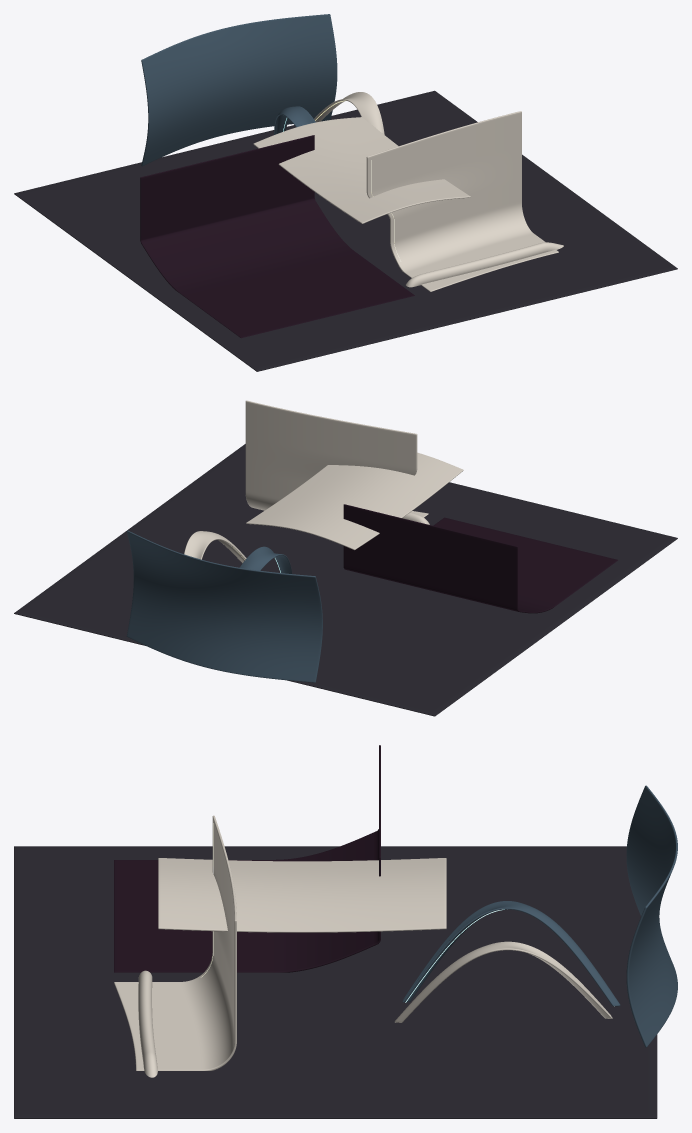
File: chamber.glb
3 renders of one model, top to bottom at view 1: azimuth 30°, elevation 25°; view 2: azimuth 150°, elevation 25°; view 3: azimuth 270°, elevation 25°, orthographic. The views are drawn at different scales.
Parts seen in each view (by area): view 1: Shared_Light_Chamber, Shared_Sculpted_Cove, Shared_Unfolding_Canopy, Shared_Sculpted_Foreground; view 2: Shared_Light_Chamber, Shared_Sculpted_Cove, Shared_Unfolding_Canopy; view 3: Shared_Light_Chamber, Shared_Unfolding_Canopy, Shared_Sculpted_Cove, Shared_Sculpted_Foreground.
Part boxes in pixels (box(x1,y1,x2,y2)): Shared_Light_Chamber: box(14, 14, 677, 371); Shared_Sculpted_Cove: box(366, 111, 558, 291); Shared_Unfolding_Canopy: box(253, 117, 470, 223); Shared_Sculpted_Foreground: box(406, 242, 563, 287); Shared_Light_Chamber: box(14, 444, 677, 716); Shared_Sculpted_Cove: box(245, 400, 428, 517); Shared_Unfolding_Canopy: box(246, 452, 463, 550); Shared_Light_Chamber: box(14, 745, 677, 1118); Shared_Unfolding_Canopy: box(158, 858, 446, 932); Shared_Sculpted_Cove: box(114, 815, 236, 1070); Shared_Sculpted_Foreground: box(138, 970, 157, 1077).
Bounding box in the file's own units: 58 × 17.35 × 59.87.
